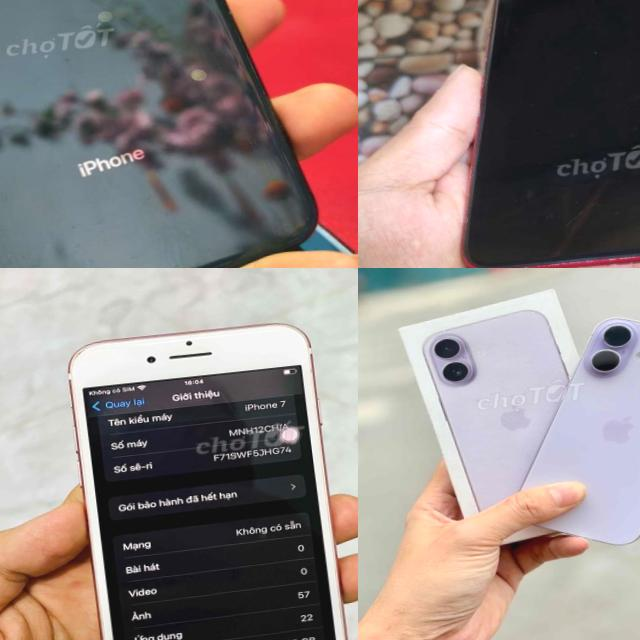gen_17: (503, 300, 640, 577)
gen_7_8: (54, 314, 358, 640), (0, 0, 336, 268)
gen_x_xs: (463, 0, 640, 268)
